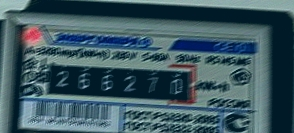0: (169, 78, 182, 96)
2: (54, 70, 68, 88), (123, 75, 135, 93)
6: (77, 72, 90, 91), (100, 74, 113, 93)
7: (146, 76, 158, 94)
screen: (36, 54, 202, 112)
